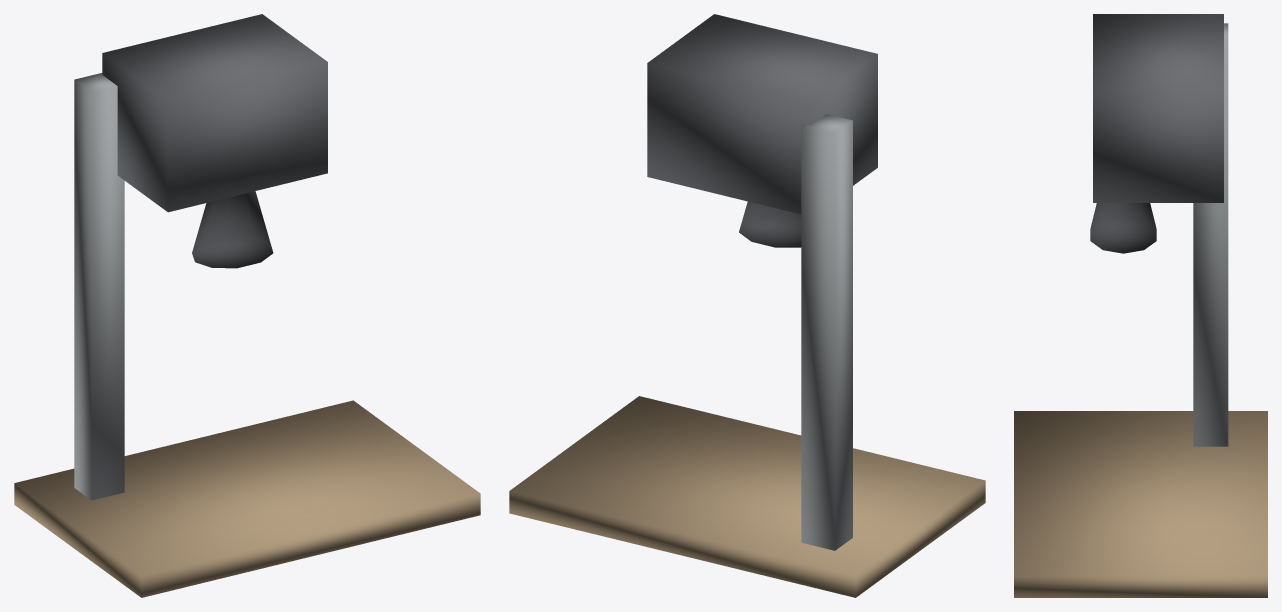
Rendered from photo_enlarger__wide.glb.
3 renders of one model, left to right at view 1: azimuth 30°, elevation 25°; view 2: azimuth 150°, elevation 25°; view 3: azimuth 270°, elevation 25°, orthographic. The views are drawn at different scales.
Visible parts, largest first — view 1: world; view 2: world; view 3: world.
Part boxes in pixels (x1,y1,x2,y2): world: (14, 14, 480, 597); world: (509, 14, 985, 597); world: (1014, 14, 1267, 597).
Size of the model in its own units: 0.8928 by 1.14 by 0.58.
